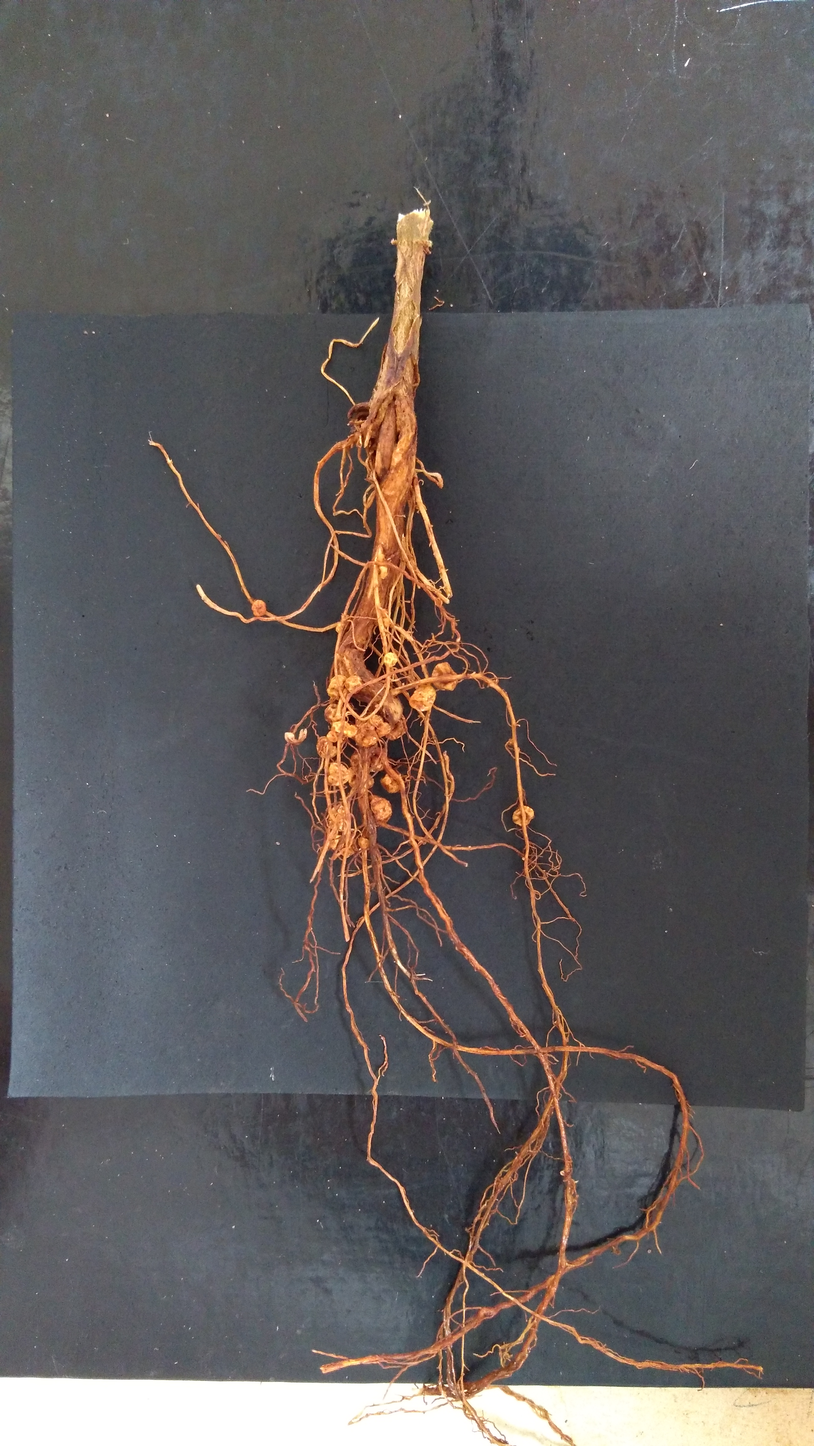nodule: (347, 401, 373, 435), (351, 748, 387, 772), (431, 662, 458, 691), (368, 795, 392, 827), (354, 714, 377, 747), (409, 684, 436, 712), (383, 697, 403, 724), (380, 769, 402, 793), (326, 675, 346, 701), (327, 762, 349, 785), (338, 833, 358, 858), (316, 736, 338, 758), (368, 715, 390, 737), (324, 703, 347, 724), (328, 805, 346, 831), (512, 805, 533, 826), (386, 718, 406, 740), (349, 773, 374, 789), (331, 721, 350, 742), (284, 728, 307, 745), (344, 676, 362, 694), (324, 830, 339, 850), (335, 614, 351, 632), (377, 553, 387, 579), (252, 600, 266, 617), (384, 652, 398, 667), (345, 725, 358, 738), (422, 239, 433, 254), (358, 837, 370, 849), (326, 731, 338, 742), (382, 617, 393, 628), (435, 598, 443, 607), (381, 608, 388, 617), (559, 1170, 565, 1176), (508, 738, 513, 745)
